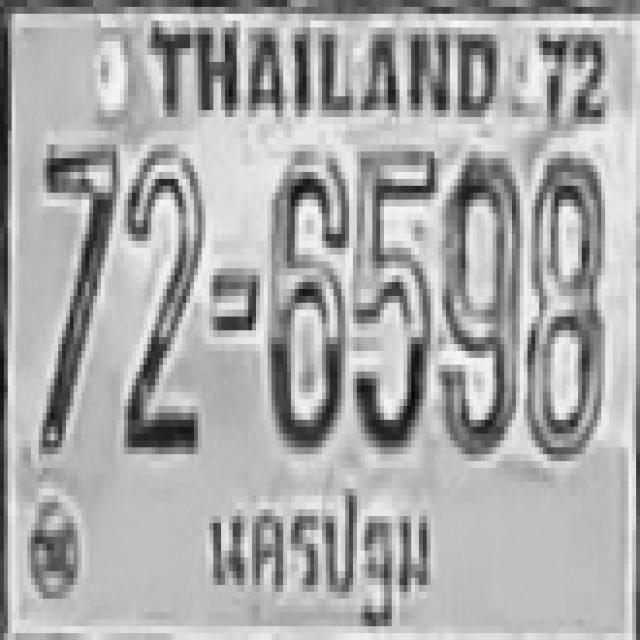2: (122, 144, 204, 448)
5: (351, 141, 436, 444)
6: (266, 148, 347, 444)
7: (39, 138, 116, 447)
8: (524, 152, 601, 454)
9: (438, 148, 520, 451)
NakhonPathom: (198, 477, 435, 630)
